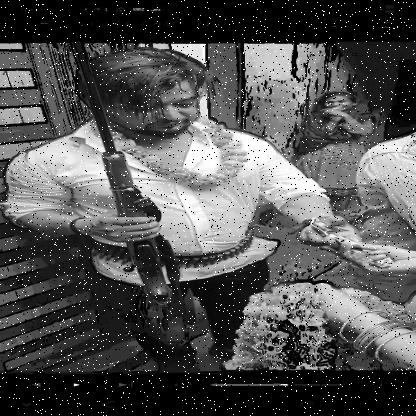rifle: (72, 43, 192, 348)
